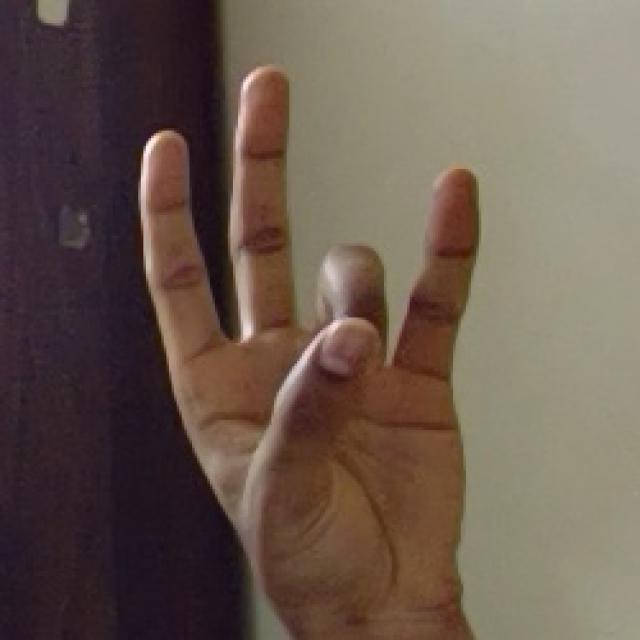Numeric-7: (142, 56, 468, 640)
